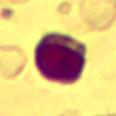lymphocyte: (32, 31, 90, 88)
